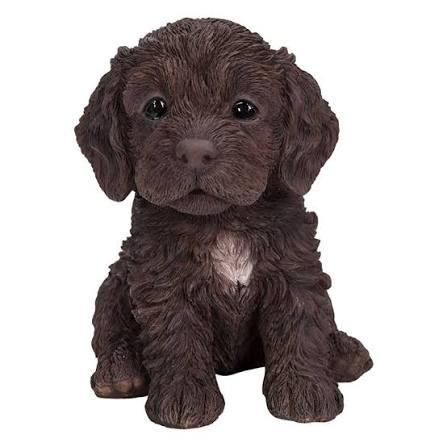non-dog: (72, 17, 375, 434)
